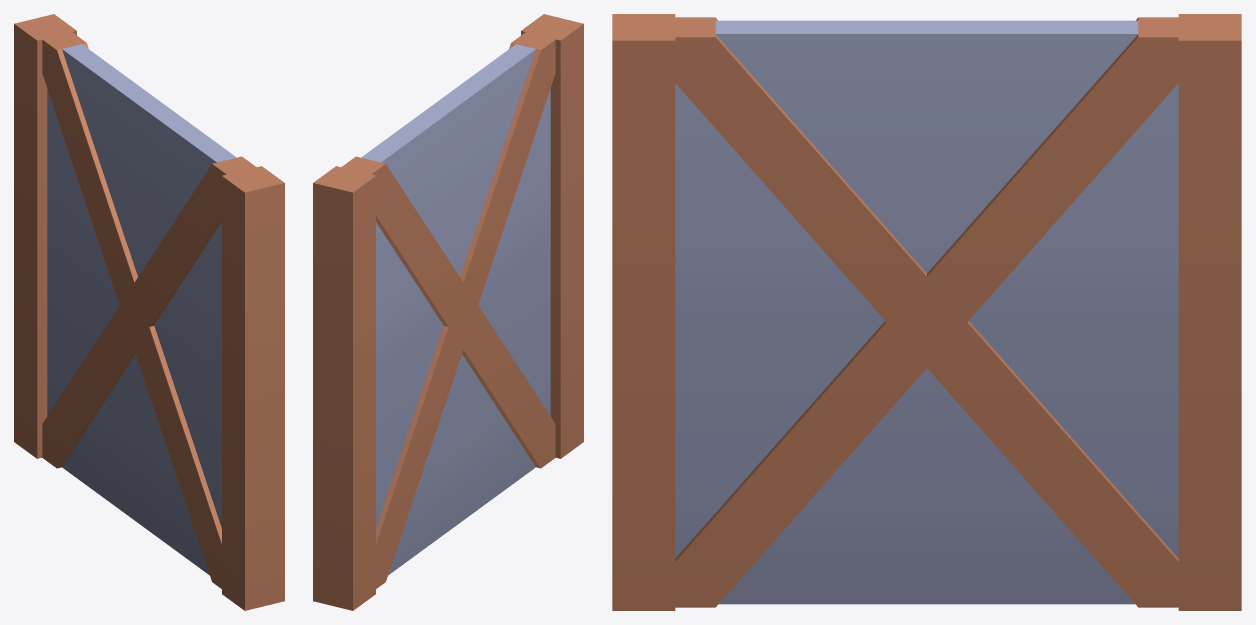
The model's file is wall-detail-cross.glb.
3 renders of one model, left to right at view 1: azimuth 30°, elevation 25°; view 2: azimuth 150°, elevation 25°; view 3: azimuth 270°, elevation 25°, orthographic. The views are drawn at different scales.
Visible parts, largest first — view 1: wall-detail-cross; view 2: wall-detail-cross; view 3: wall-detail-cross.
Part boxes in pixels (x1,y1,x2,y2): wall-detail-cross: (14, 14, 284, 610); wall-detail-cross: (313, 14, 583, 610); wall-detail-cross: (612, 14, 1241, 610).
Size of the model in its own units: 0.1 by 1 by 1.
Materials: 1 (1 with a texture image).
